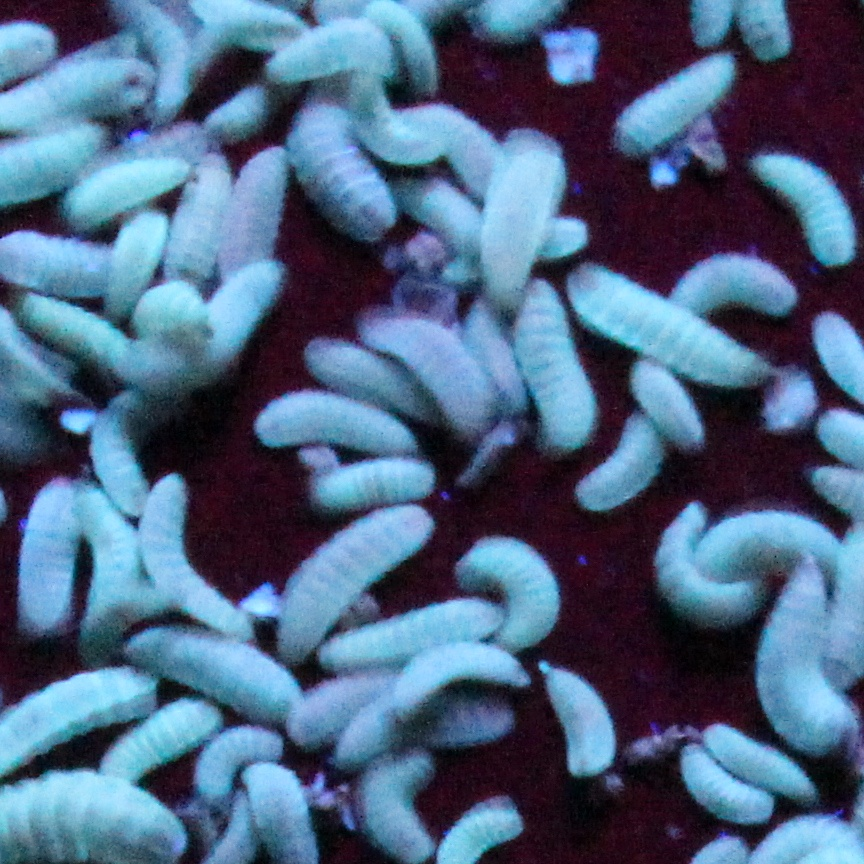larve: (268, 493, 437, 663), (562, 252, 773, 385), (132, 475, 258, 644), (159, 249, 304, 387), (598, 44, 750, 160), (649, 241, 811, 349), (510, 295, 610, 460), (476, 129, 568, 304), (642, 498, 763, 631), (364, 311, 505, 425), (462, 527, 581, 662), (4, 472, 94, 645), (240, 378, 422, 460), (97, 685, 225, 797), (539, 653, 625, 788), (391, 629, 529, 708), (699, 718, 824, 804), (580, 413, 658, 513), (70, 160, 185, 216)
